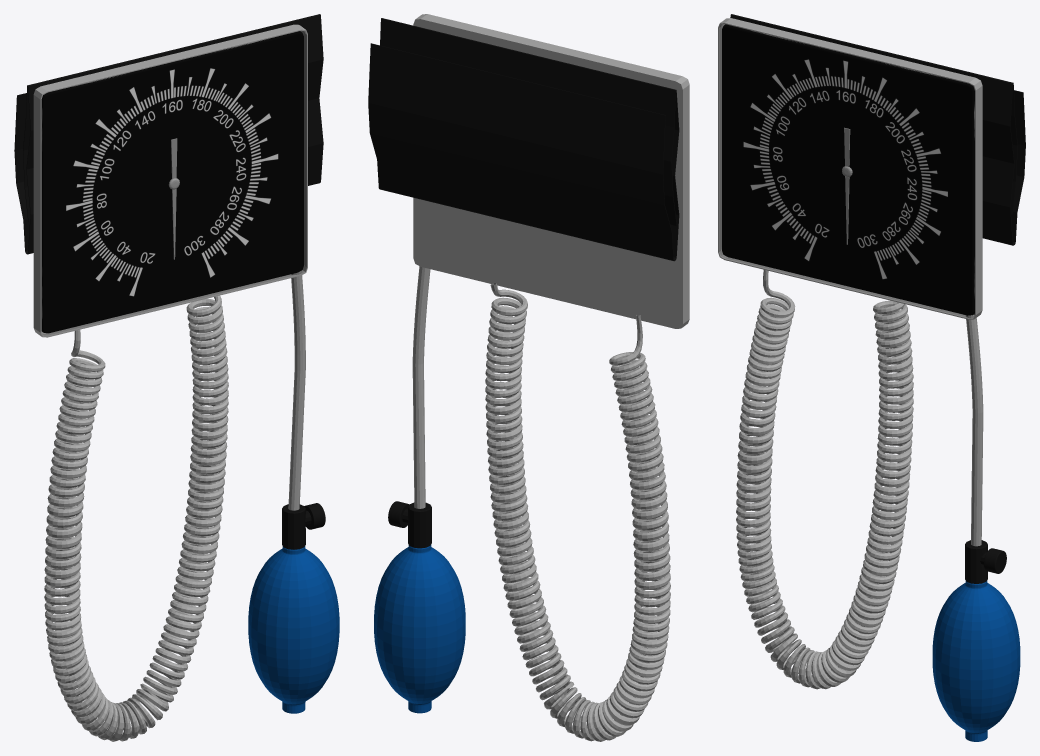
File: blood_pressure_device.glb
The picture shows the model from 3 angles, left to right: view 1: azimuth 30°, elevation 25°; view 2: azimuth 150°, elevation 25°; view 3: azimuth 330°, elevation 25°; orthographic projection. The views are drawn at different scales.
Visible parts, largest first — view 1: Blood Pressure; view 2: Blood Pressure; view 3: Blood Pressure.
Part boxes in pixels (<box>): Blood Pressure: <box>14,14,339,741</box>; Blood Pressure: <box>368,14,689,741</box>; Blood Pressure: <box>718,14,1025,741</box>.
Size of the model in its own units: 0.1851 by 0.4035 by 0.0487.
Materials: 5 (1 with a texture image).
